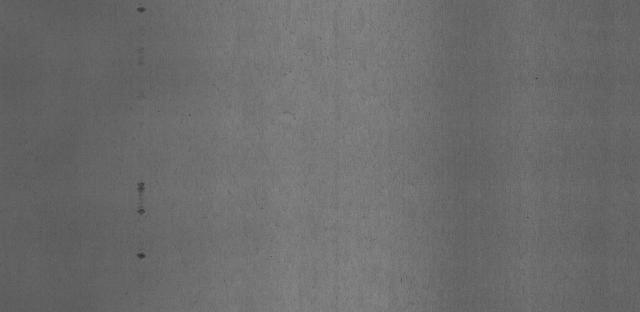oil_spot: (132, 178, 149, 221), (137, 245, 148, 263), (133, 5, 147, 18)
